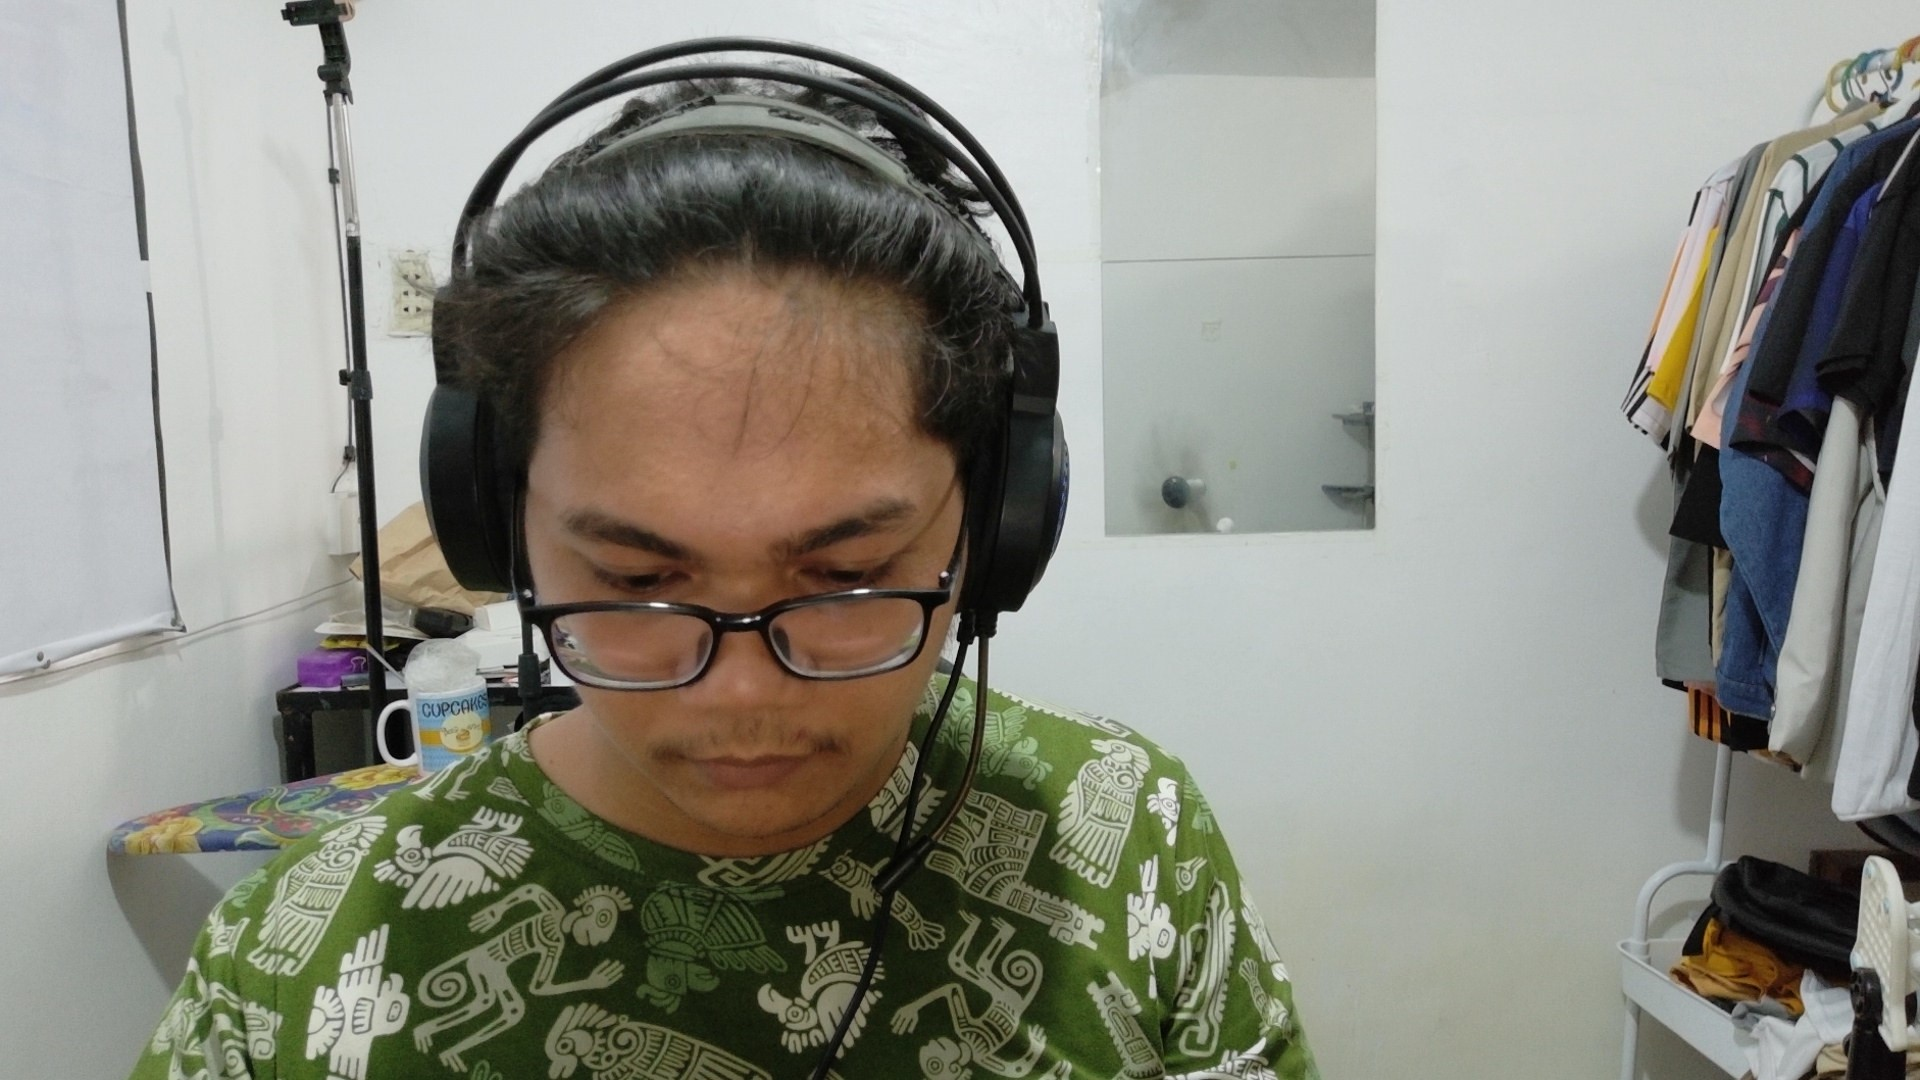face: (384, 60, 1102, 835)
